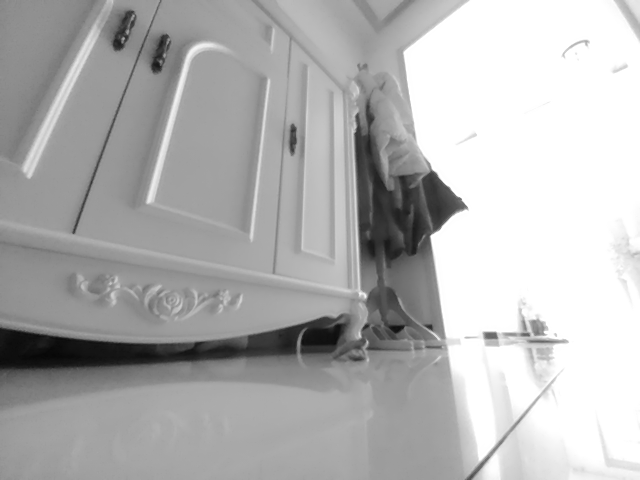shoe: (360, 321, 414, 351)
